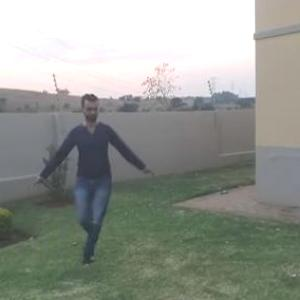land: (38, 86, 152, 268)
